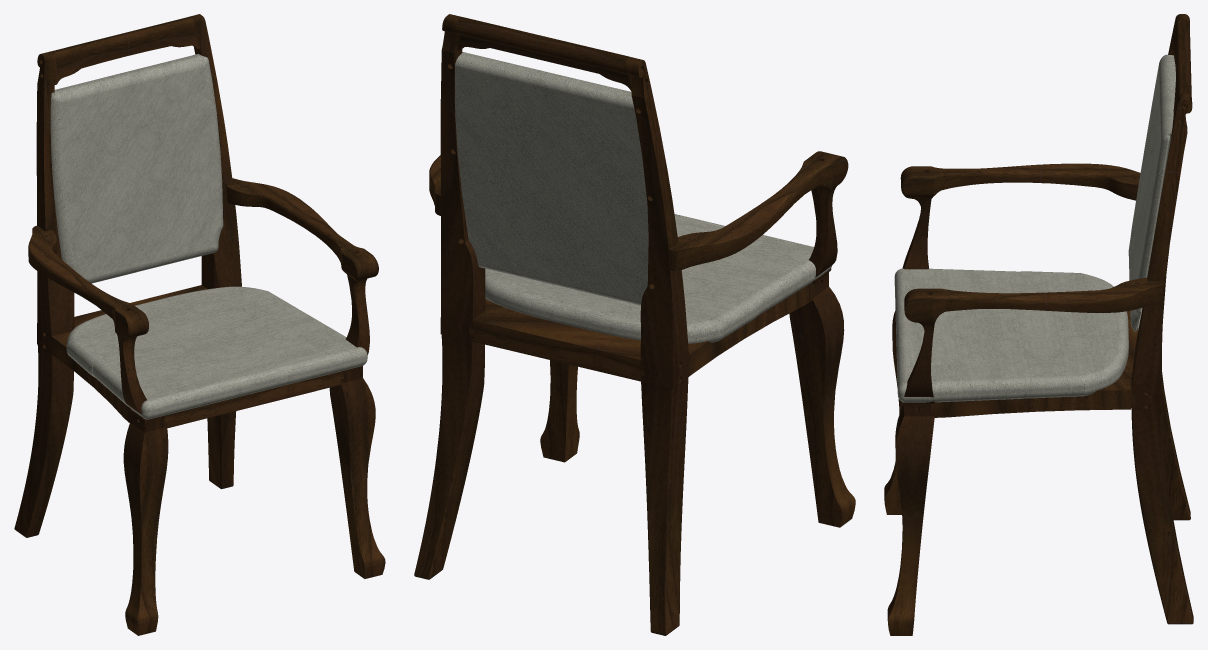
Rendered from windsor-arm.glb.
The picture shows the model from 3 angles, left to right: view 1: azimuth 30°, elevation 25°; view 2: azimuth 150°, elevation 25°; view 3: azimuth 270°, elevation 25°; orthographic projection. The views are drawn at different scales.
Parts seen in each view (by area): view 1: Windsor Arm Chair, Windsor Arm Chair.001; view 2: Windsor Arm Chair.001, Windsor Arm Chair; view 3: Windsor Arm Chair.001, Windsor Arm Chair.
Boxes of the visible parts, bbox=[...] form: Windsor Arm Chair: bbox=[50, 54, 367, 419]; Windsor Arm Chair.001: bbox=[14, 14, 385, 635]; Windsor Arm Chair.001: bbox=[414, 14, 855, 635]; Windsor Arm Chair: bbox=[455, 52, 832, 343]; Windsor Arm Chair.001: bbox=[884, 14, 1193, 635]; Windsor Arm Chair: bbox=[894, 54, 1175, 402].
Size of the model in its own units: 0.5614 by 0.9679 by 0.5291.
Materials: 2 (2 with a texture image).
